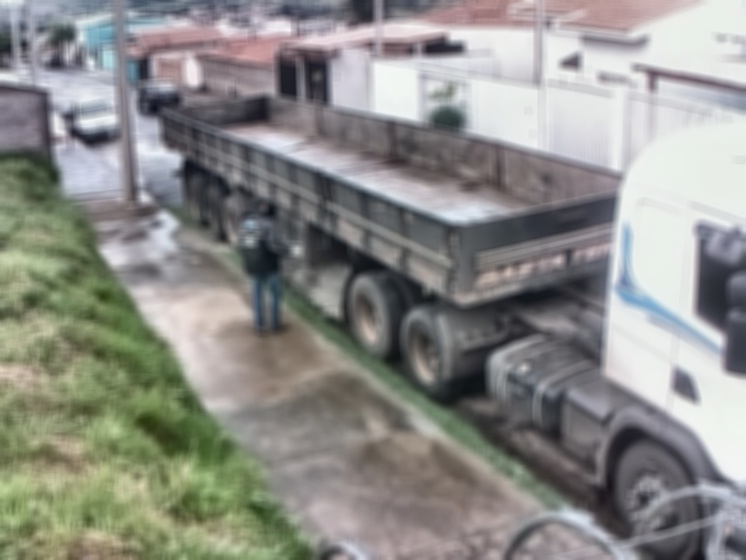person: (236, 195, 304, 341)
